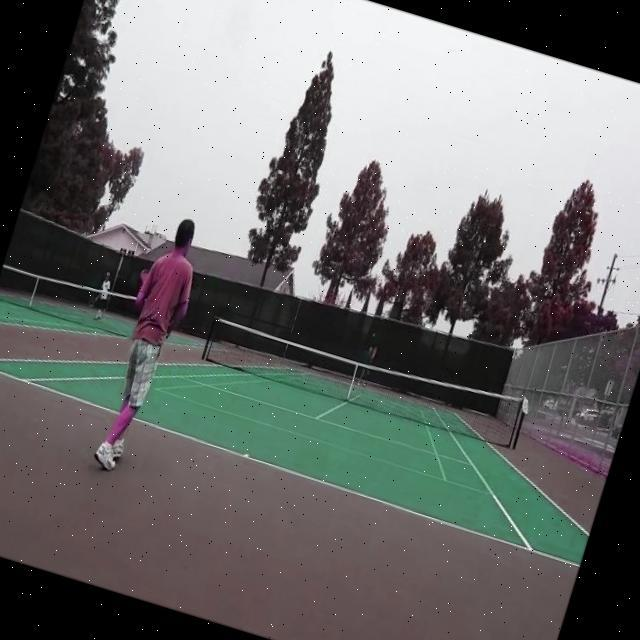court: (0, 274, 611, 566)
net: (200, 304, 532, 456)
player: (82, 209, 213, 479)
